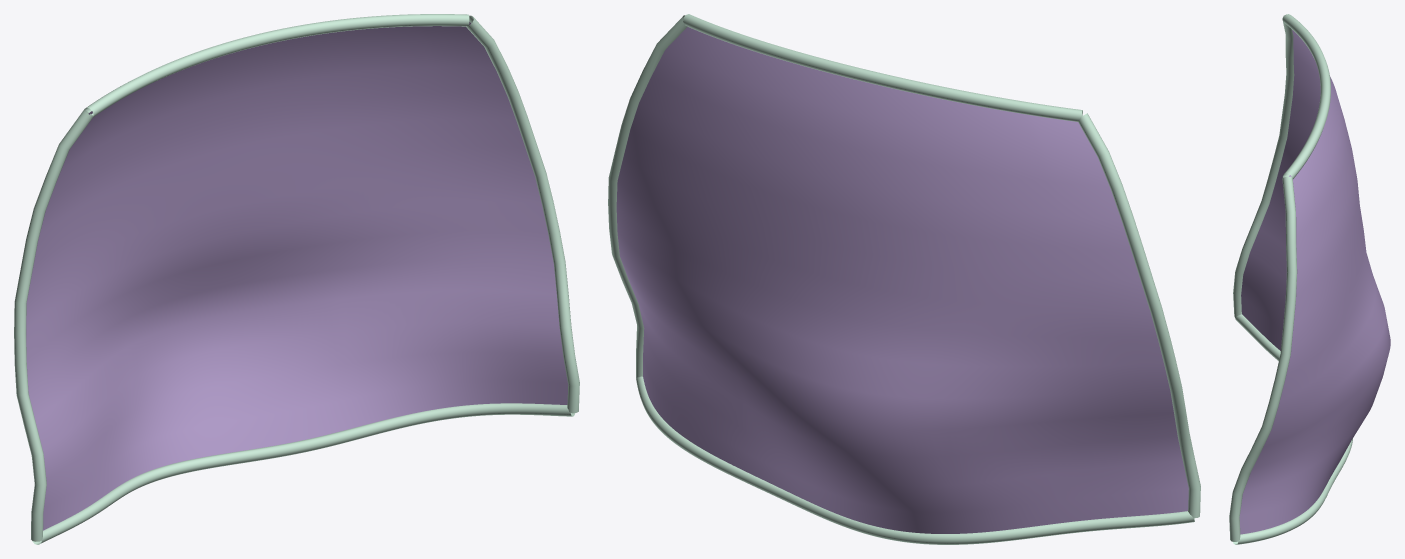
File: 07-cape.glb
3 renders of one model, left to right at view 1: azimuth 30°, elevation 25°; view 2: azimuth 150°, elevation 25°; view 3: azimuth 270°, elevation 25°, orthographic. The views are drawn at different scales.
Parts seen in each view (by area): view 1: cape_cloth, cape_hem, cape_edge_120, cape_edge_0, cape_back_edge; view 2: cape_cloth, cape_hem, cape_edge_120, cape_back_edge, cape_edge_0; view 3: cape_cloth, cape_edge_0, cape_edge_120, cape_back_edge, cape_hem.
Part boxes in pixels (x1=…): cape_cloth: x1=26, y1=22, x2=568, y2=530; cape_hem: x1=32, y1=403, x2=575, y2=544; cape_edge_120: x1=14, y1=110, x2=92, y2=541; cape_edge_0: x1=466, y1=15, x2=579, y2=413; cape_back_edge: x1=84, y1=14, x2=469, y2=117; cape_cloth: x1=616, y1=27, x2=1188, y2=533; cape_hem: x1=636, y1=376, x2=1194, y2=544; cape_edge_120: x1=1078, y1=113, x2=1200, y2=518; cape_back_edge: x1=683, y1=14, x2=1082, y2=121; cape_edge_0: x1=608, y1=15, x2=687, y2=378; cape_cloth: x1=1239, y1=30, x2=1390, y2=534; cape_edge_0: x1=1229, y1=176, x2=1297, y2=541; cape_edge_120: x1=1233, y1=15, x2=1294, y2=317; cape_back_edge: x1=1282, y1=14, x2=1330, y2=178; cape_hem: x1=1233, y1=314, x2=1352, y2=544.
Size of the model in its own units: 1.45 by 1.1 by 0.4306.
